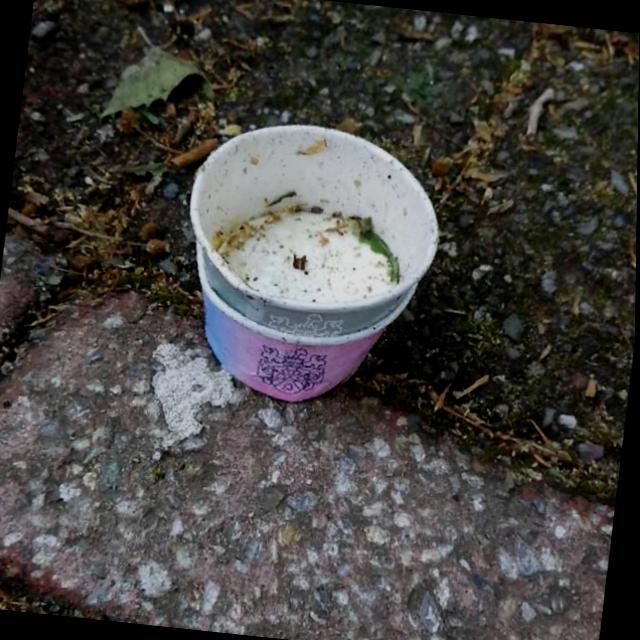Paper: (163, 109, 449, 414)
